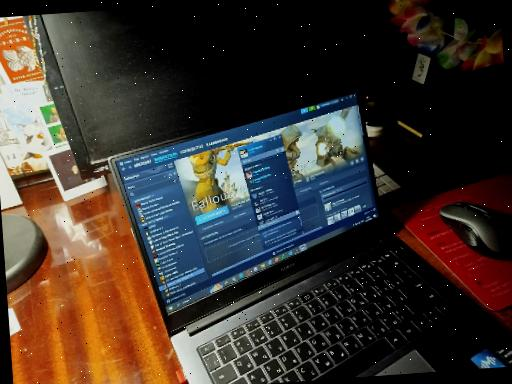steam: (118, 110, 406, 287)
